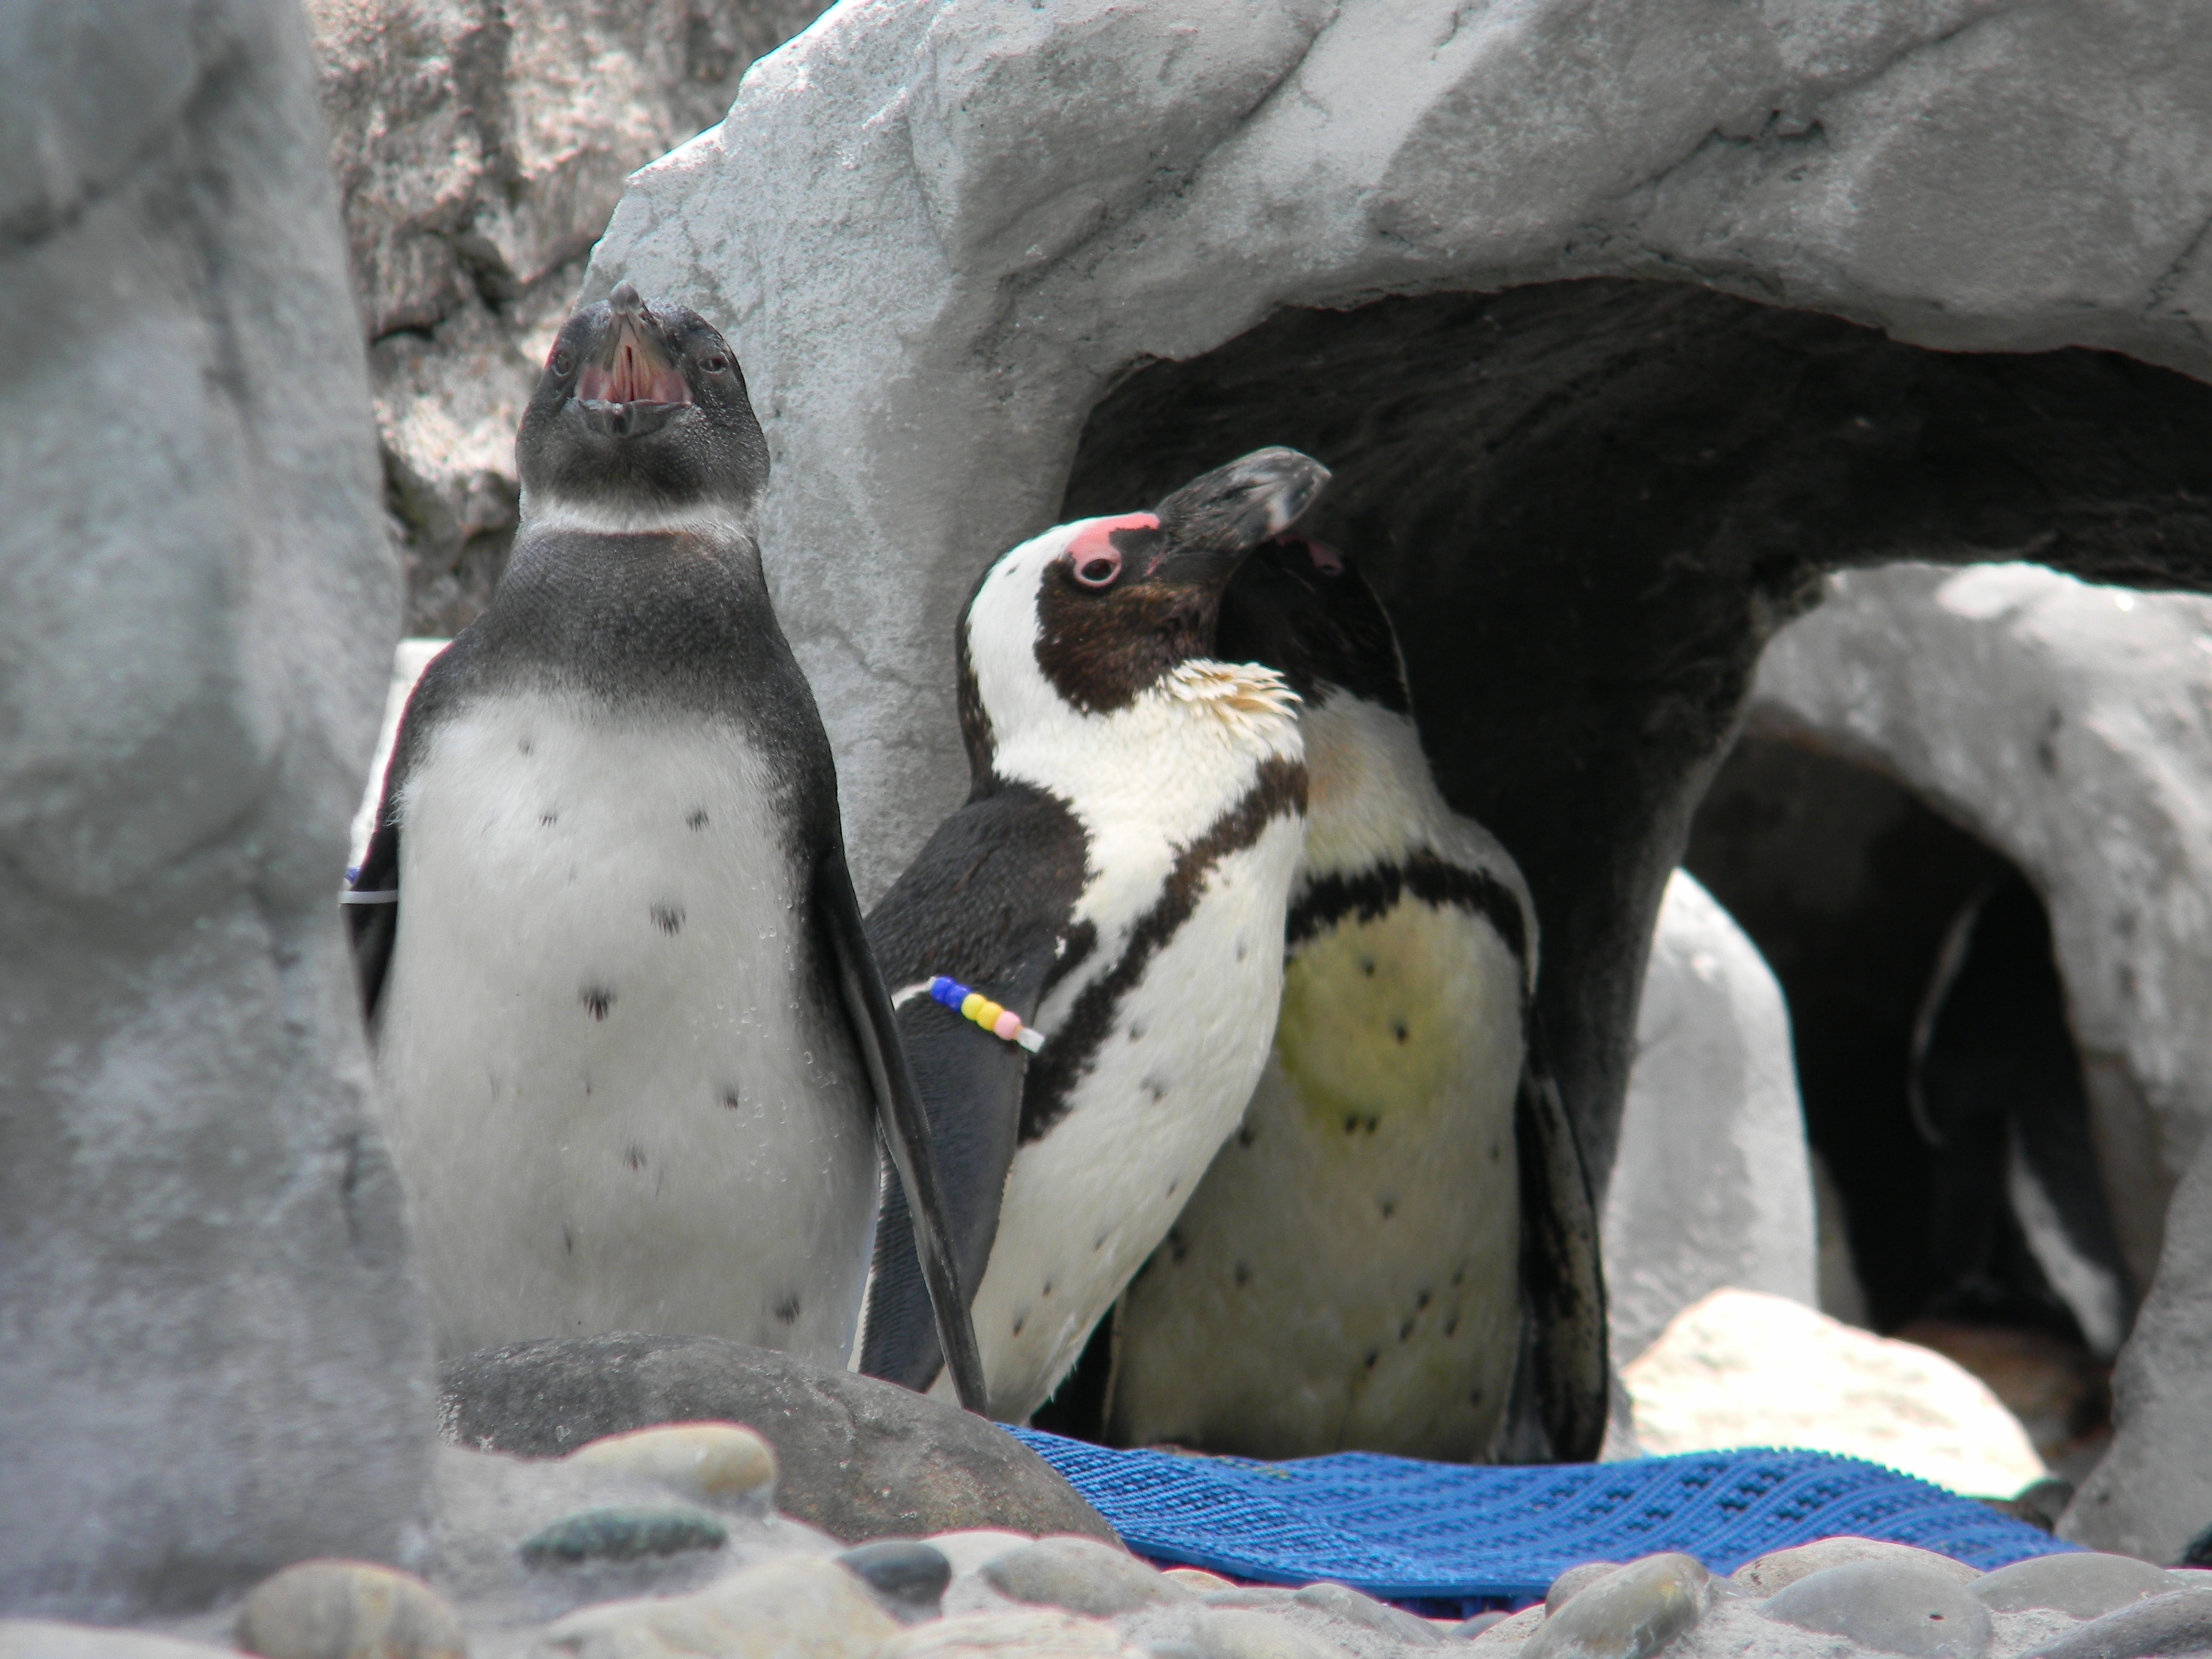penguin: (371, 284, 1017, 1445), (862, 437, 1318, 1497)
